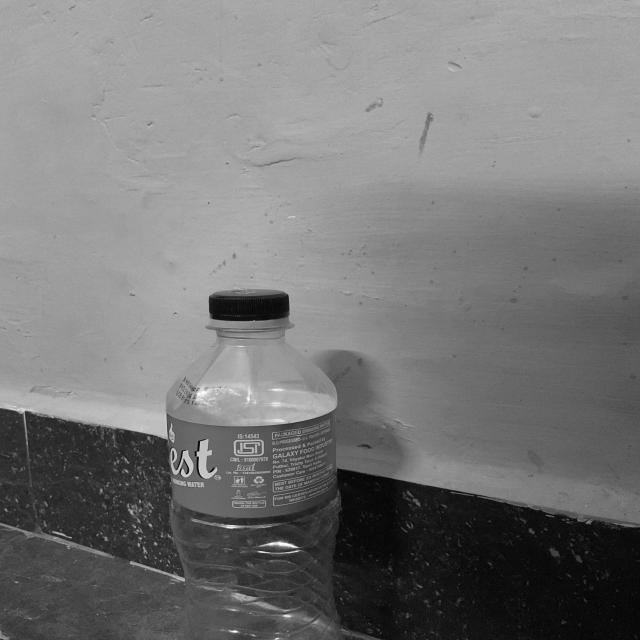Good-cap-Df0S: (207, 289, 295, 333)
